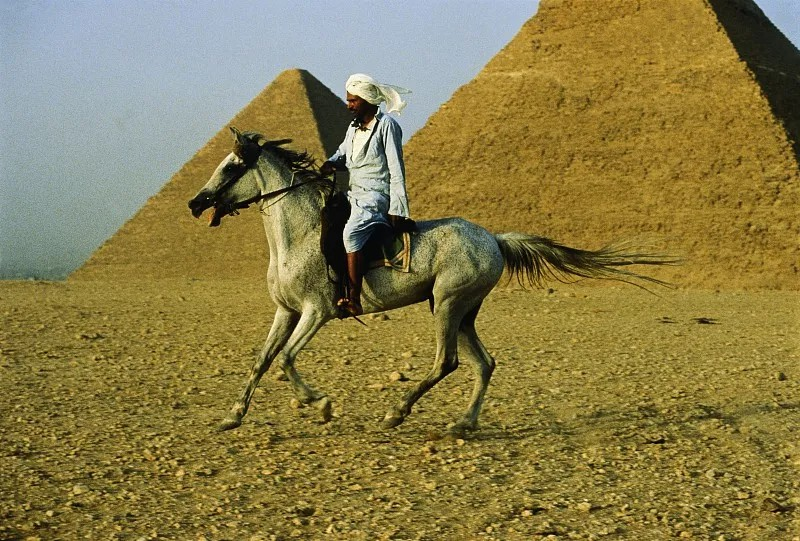Pyramid: (407, 1, 800, 291), (66, 68, 351, 281)
